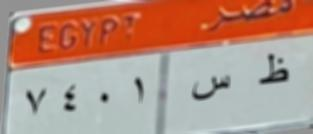0: (93, 82, 114, 115)
1: (122, 70, 150, 111)
4: (62, 81, 82, 118)
7: (19, 87, 51, 119)
Thaa: (256, 47, 293, 93)
seen: (183, 69, 238, 109)
